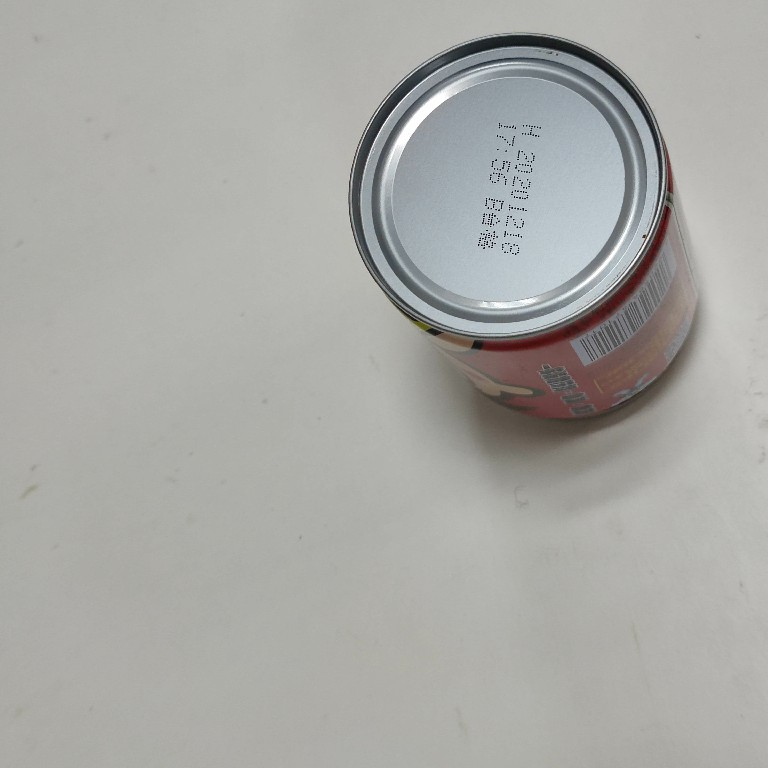can: (343, 28, 708, 431)
